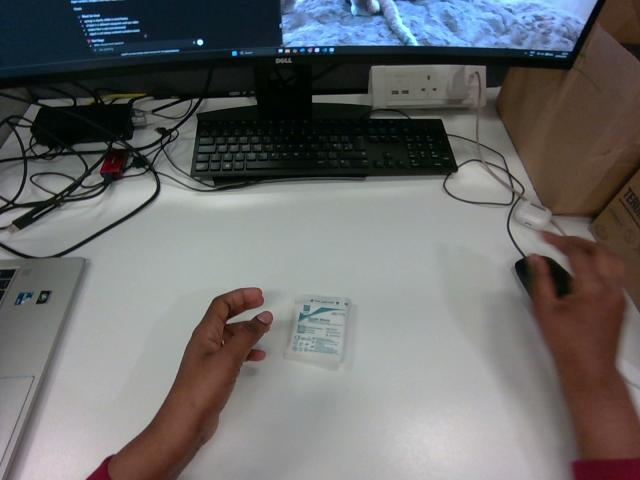gauze: (285, 295, 349, 367)
